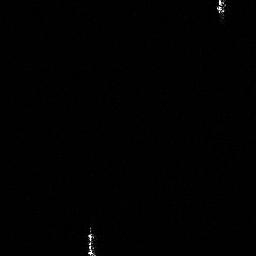ship: (83, 224, 99, 256)
